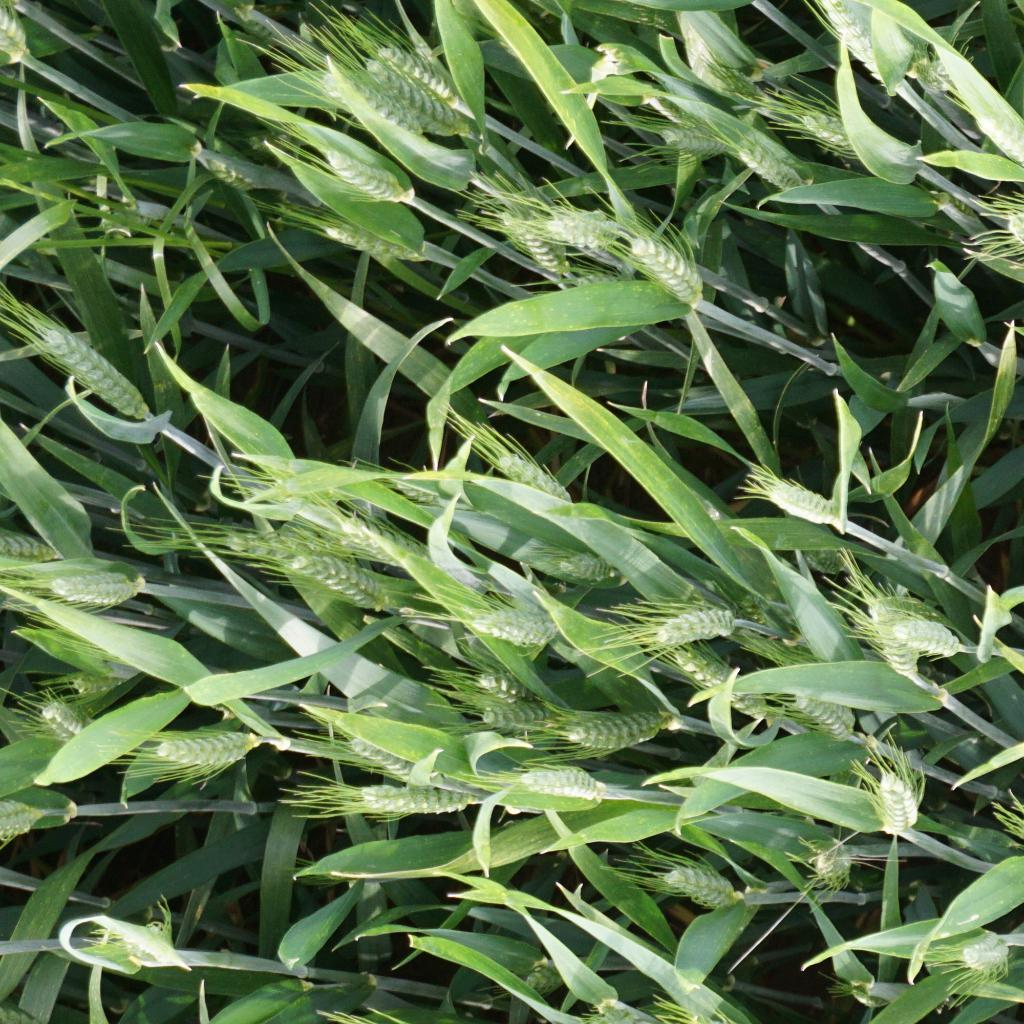0-0: (19, 310, 152, 419), (672, 642, 773, 721), (368, 67, 468, 138), (323, 71, 421, 141), (815, 0, 892, 88), (620, 235, 702, 309), (290, 554, 397, 609), (381, 48, 472, 110), (864, 591, 920, 688), (335, 514, 429, 565), (328, 151, 410, 209), (321, 215, 425, 260), (342, 736, 437, 783), (364, 775, 469, 817), (736, 131, 802, 197), (561, 711, 669, 750), (491, 450, 574, 500), (787, 688, 856, 747), (759, 480, 832, 534), (151, 732, 262, 766), (466, 604, 563, 642), (665, 861, 737, 912), (521, 210, 623, 245), (653, 606, 732, 651), (522, 759, 605, 801), (480, 694, 573, 731), (512, 214, 565, 276), (883, 616, 961, 658), (875, 766, 919, 840), (953, 922, 1011, 978), (47, 568, 136, 604), (977, 109, 1024, 175), (228, 536, 345, 562), (30, 695, 92, 743), (797, 108, 863, 148), (655, 123, 738, 153), (0, 525, 62, 565), (798, 840, 849, 888), (0, 798, 55, 842), (475, 664, 540, 701), (116, 923, 172, 960), (525, 958, 578, 992), (386, 472, 445, 502), (556, 552, 619, 580), (930, 49, 974, 88), (70, 671, 130, 696), (839, 979, 888, 1008), (205, 156, 252, 186), (801, 546, 849, 573), (0, 10, 22, 67), (738, 595, 769, 622), (1006, 204, 1024, 245)
